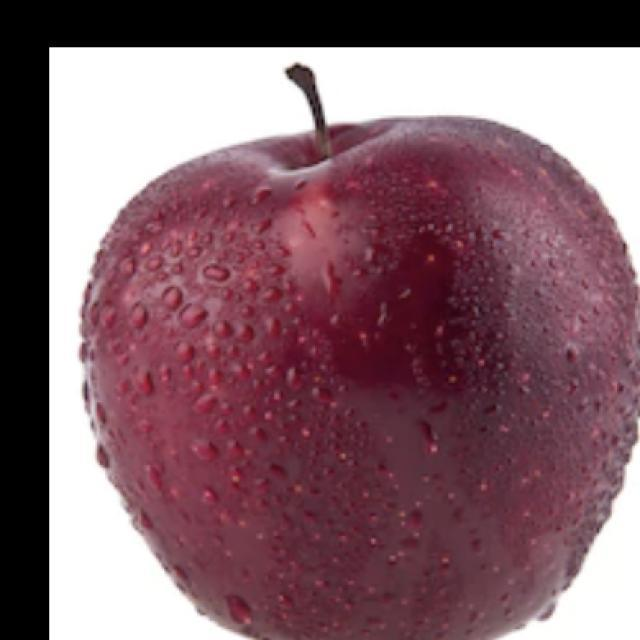Fresh Apple: (82, 110, 640, 640)
